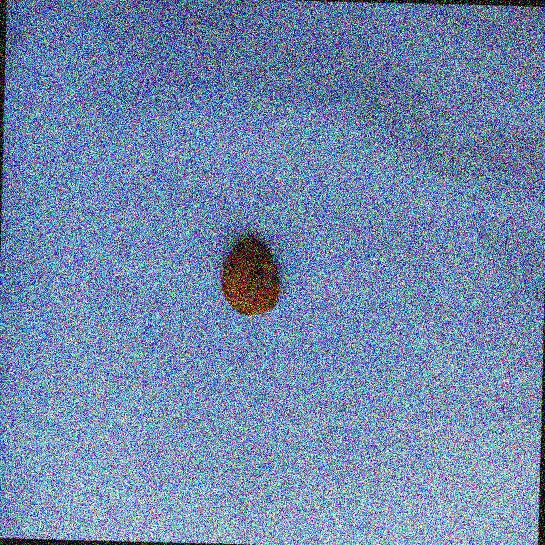grade3: (219, 234, 285, 320)
